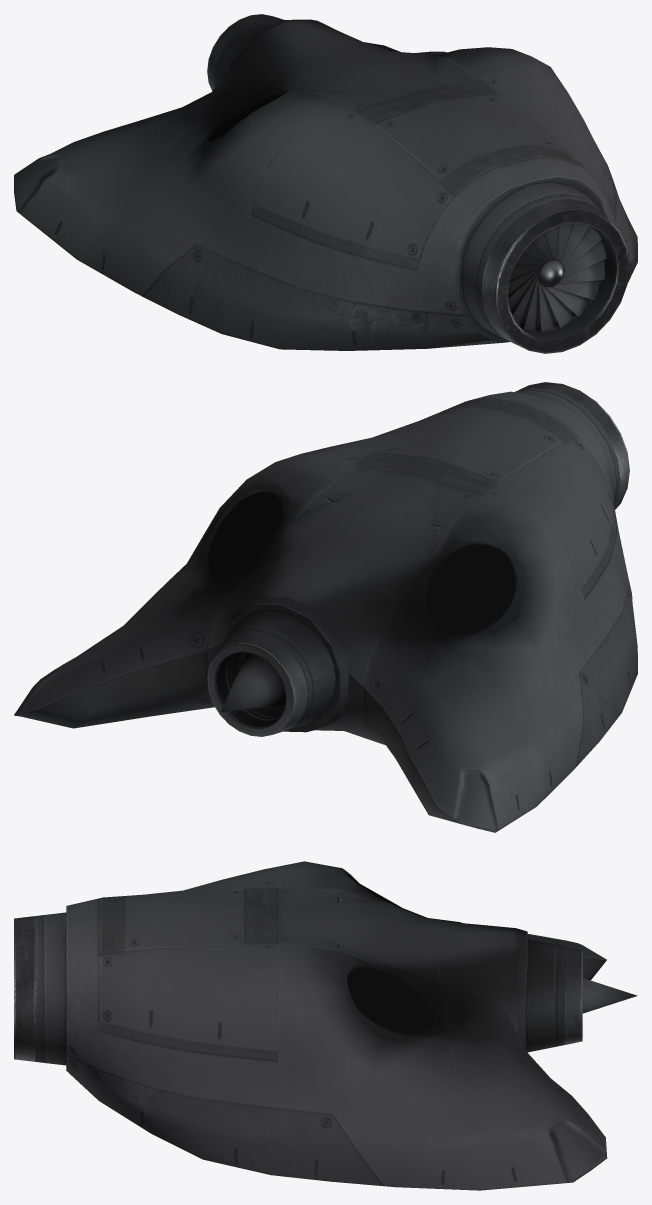
File: option_booster2.fbx
The picture shows the model from 3 angles, top to bottom: view 1: azimuth 30°, elevation 25°; view 2: azimuth 150°, elevation 25°; view 3: azimuth 270°, elevation 25°; orthographic projection. The views are drawn at different scales.
Parts seen in each view (by area): view 1: OP-B_low_000, OP-B_low_005, OP-B_low_001, OP-B_low_003, OP-B_low_006; view 2: OP-B_low_000, OP-B_low_003, OP-B_low_005, OP-B_low_004; view 3: OP-B_low_000, OP-B_low_005, OP-B_low_003, OP-B_low_004.
Boxes of the visible parts, bbox=[...] form: OP-B_low_000: bbox=[14, 19, 637, 350]; OP-B_low_005: bbox=[461, 182, 629, 353]; OP-B_low_001: bbox=[508, 223, 606, 332]; OP-B_low_003: bbox=[207, 14, 283, 90]; OP-B_low_006: bbox=[538, 260, 564, 286]; OP-B_low_000: bbox=[14, 391, 637, 832]; OP-B_low_003: bbox=[207, 610, 335, 736]; OP-B_low_005: bbox=[514, 382, 629, 509]; OP-B_low_004: bbox=[220, 653, 285, 712]; OP-B_low_000: bbox=[66, 861, 607, 1190]; OP-B_low_005: bbox=[14, 912, 66, 1065]; OP-B_low_003: bbox=[526, 939, 582, 1052]; OP-B_low_004: bbox=[582, 978, 637, 1013].
Size of the model in its own units: 126 by 51.99 by 156.
Materials: 1 (1 with a texture image).
